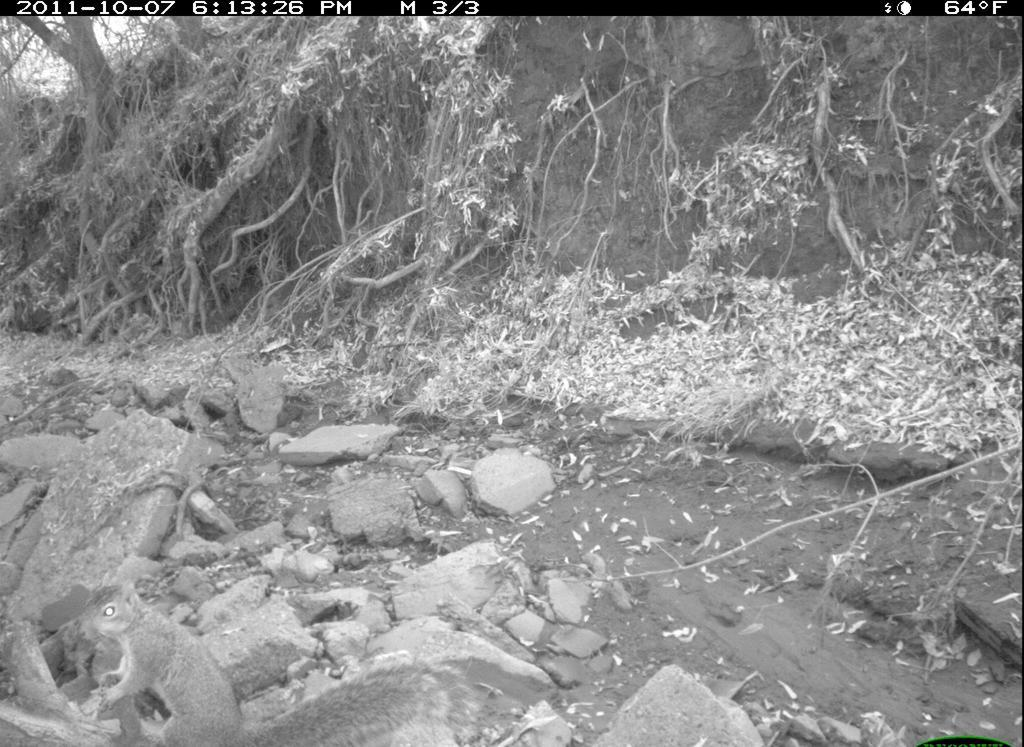squirrel: (79, 573, 466, 747)
